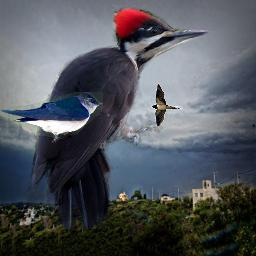Swallow: (0, 92, 103, 143), (151, 83, 184, 127)
Woodpecker: (23, 6, 212, 229)
